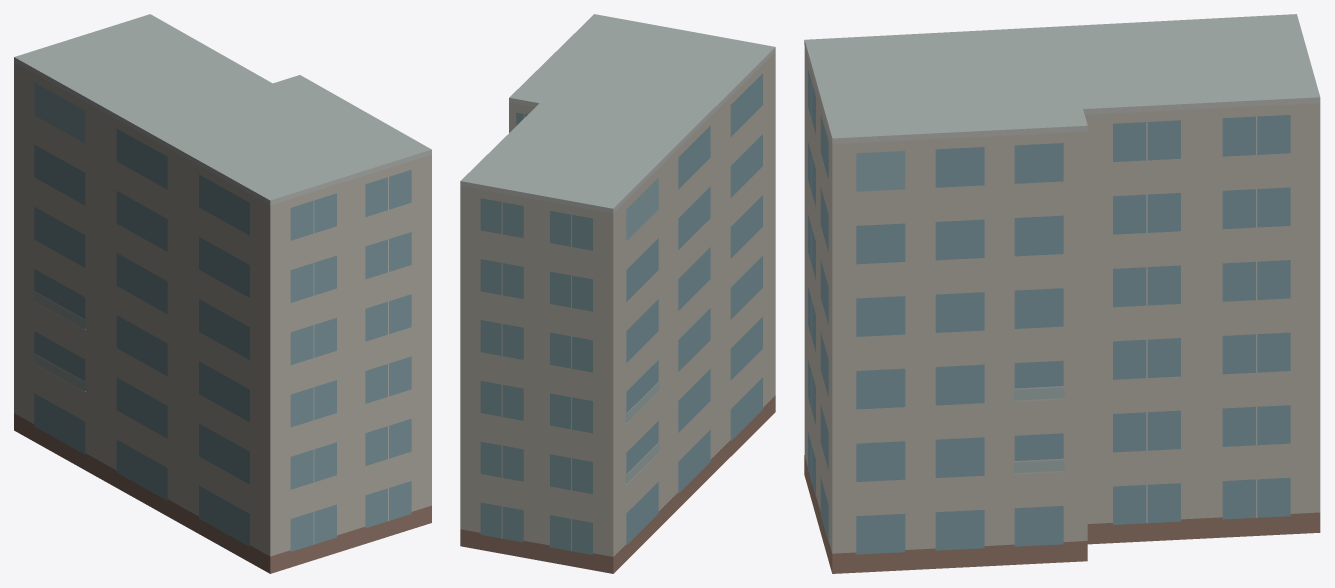
The model's file is survey-upis-32530995.glb.
3 renders of one model, left to right at view 1: azimuth 30°, elevation 25°; view 2: azimuth 150°, elevation 25°; view 3: azimuth 270°, elevation 25°, orthographic. The views are drawn at different scales.
Parts seen in each view (by area): view 1: survey-upis-32530995.tmp; view 2: survey-upis-32530995.tmp; view 3: survey-upis-32530995.tmp.
Boxes of the visible parts, x1,y1,x2,y2 form: survey-upis-32530995.tmp: (14,14,431,573); survey-upis-32530995.tmp: (460,14,775,573); survey-upis-32530995.tmp: (804,14,1320,573).
Size of the model in its own units: 11.47 by 18.7 by 20.09.
